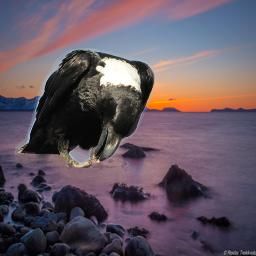Crow: (15, 46, 157, 172)
